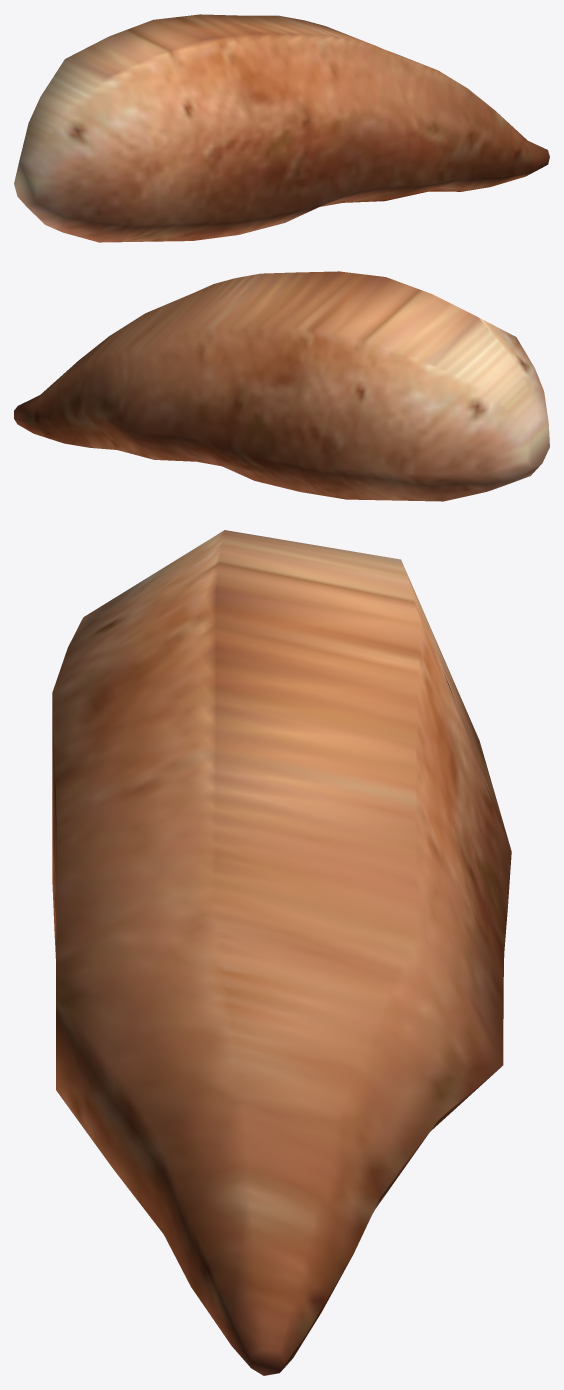
Rendered from WorldItem_SweetPotato.fbx.
3 views of the same model, one above another, from view 1: azimuth 30°, elevation 25°; view 2: azimuth 150°, elevation 25°; view 3: azimuth 270°, elevation 25° (orthographic). The views are drawn at different scales.
Visible parts, largest first — view 1: Cylinder; view 2: Cylinder; view 3: Cylinder.
Part boxes in pixels (bbox=[...]): Cylinder: bbox=[14, 14, 549, 242]; Cylinder: bbox=[14, 271, 549, 501]; Cylinder: bbox=[52, 530, 511, 1375].
Bounding box in the file's own units: 0.0963 × 0.0399 × 0.0367.
